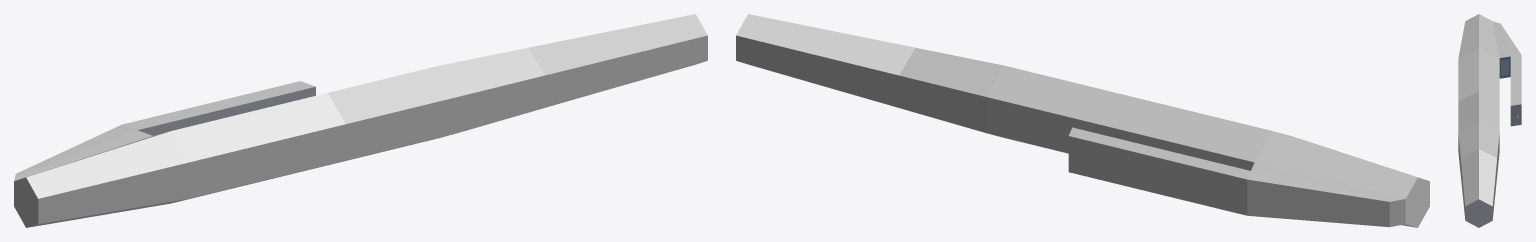
The model's file is pen1.fbx.
The picture shows the model from 3 angles, left to right: view 1: azimuth 30°, elevation 25°; view 2: azimuth 150°, elevation 25°; view 3: azimuth 270°, elevation 25°; orthographic projection. The views are drawn at different scales.
Visible parts, largest first — view 1: pen1; view 2: pen1; view 3: pen1.
Part boxes in pixels (x1=…): pen1: x1=14, y1=14, x2=707, y2=227; pen1: x1=736, y1=14, x2=1429, y2=227; pen1: x1=1458, y1=14, x2=1521, y2=227.
Bounding box in the file's own units: 5.2 × 0.5378 × 0.7481.
Materials: 1 (1 with a texture image).
